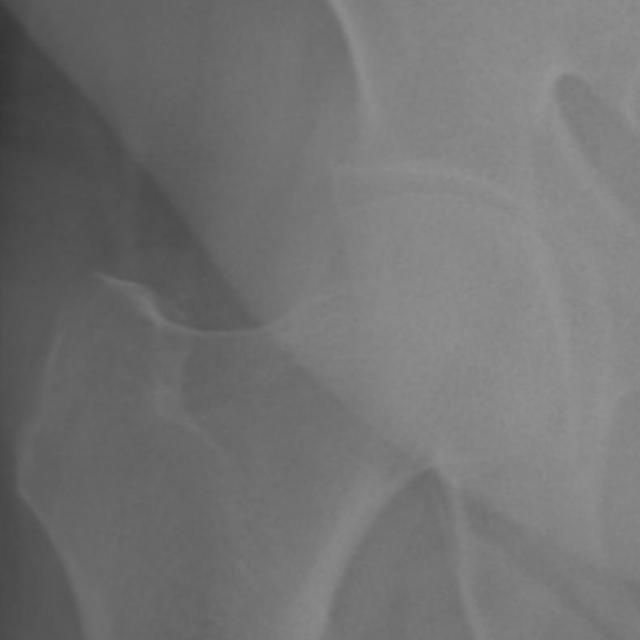Fitted_femural_head: (297, 188, 432, 297)
